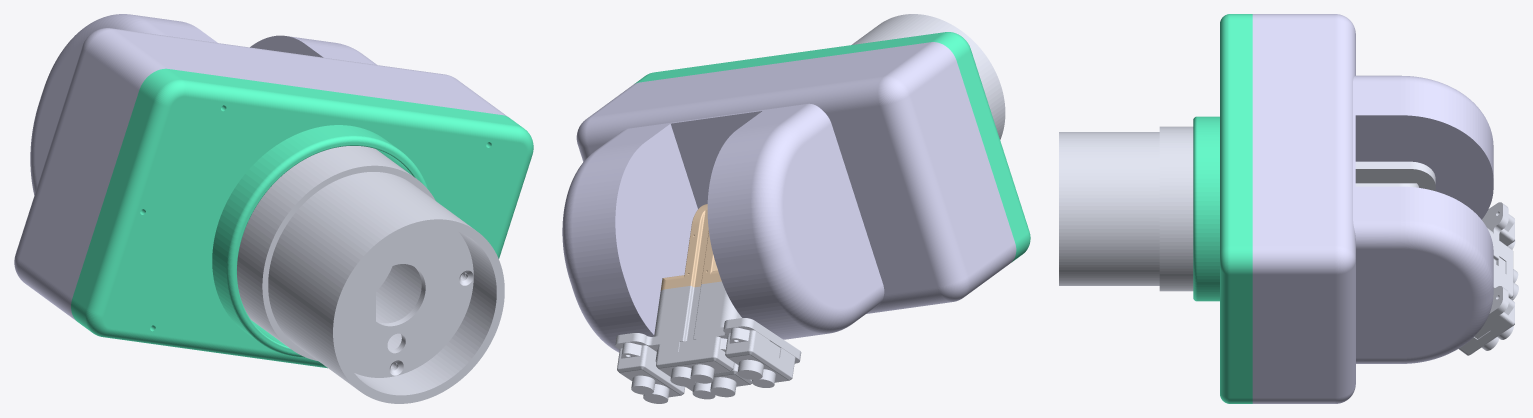
File: Assem3.glb
3 renders of one model, left to right at view 1: azimuth 30°, elevation 25°; view 2: azimuth 150°, elevation 25°; view 3: azimuth 270°, elevation 25°, orthographic. The views are drawn at different scales.
Parts seen in each view (by area): view 1: Node15, Node18, Node2, Node6; view 2: Node18, Node6, Node2, Node15, Node19; view 3: Node18, Node2, Node15, Node6.
Part boxes in pixels (x1,y1,x2,y2): Node15: (71, 68, 533, 368); Node18: (14, 14, 507, 320); Node2: (237, 146, 504, 403); Node6: (268, 174, 496, 395); Node18: (562, 42, 1016, 352); Node6: (615, 16, 1005, 399); Node2: (615, 14, 929, 403); Node15: (634, 32, 1030, 262); Node19: (660, 204, 721, 290); Node18: (1252, 14, 1493, 403); Node2: (1059, 126, 1518, 355); Node15: (1193, 14, 1252, 403); Node6: (1059, 132, 1518, 354).
Size of the model in its own units: 195 by 153 by 224.
